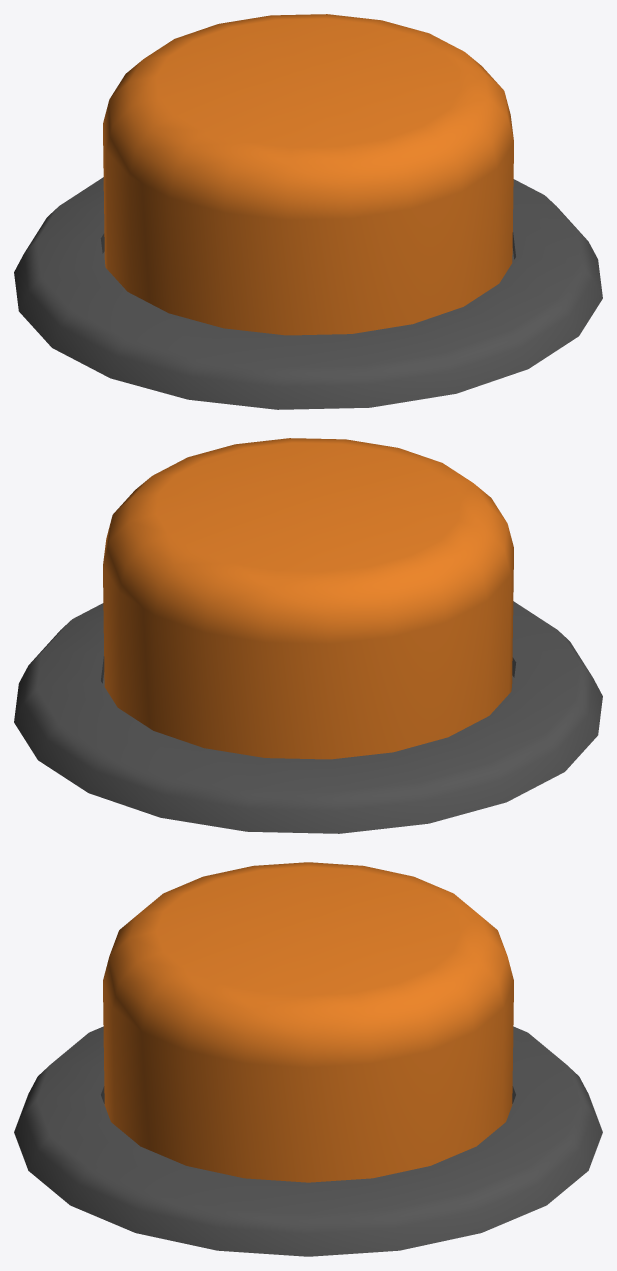
File: button7.glb
3 views of the same model, one above another, from view 1: azimuth 30°, elevation 25°; view 2: azimuth 150°, elevation 25°; view 3: azimuth 270°, elevation 25° (orthographic).
Visible parts, largest first — view 1: SM_SimpleButton_B.001, SM_SimpleButton_Base_B.001; view 2: SM_SimpleButton_B.001, SM_SimpleButton_Base_B.001; view 3: SM_SimpleButton_B.001, SM_SimpleButton_Base_B.001.
Part boxes in pixels (x1,y1,x2,y2): SM_SimpleButton_B.001: [103, 14, 513, 335]; SM_SimpleButton_Base_B.001: [14, 177, 602, 409]; SM_SimpleButton_B.001: [103, 438, 513, 759]; SM_SimpleButton_Base_B.001: [14, 601, 602, 833]; SM_SimpleButton_B.001: [103, 862, 513, 1182]; SM_SimpleButton_Base_B.001: [14, 1026, 602, 1256].
Bounding box in the file's own units: 24.07 × 9.07 × 24.07.
